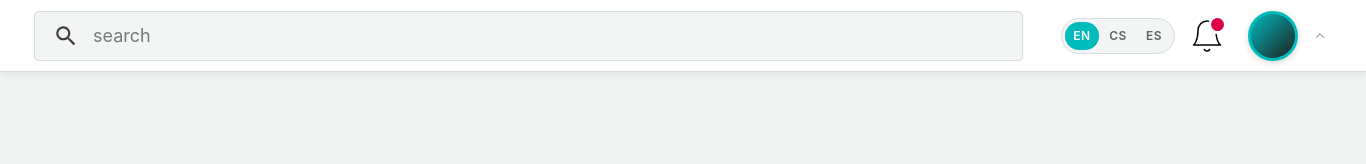
it: TopBar notification center › closes on Escape and puts the focus back on the bell
Click the button named "Notifications". click: x=1207, y=36
box: [1189,18,1225,54]
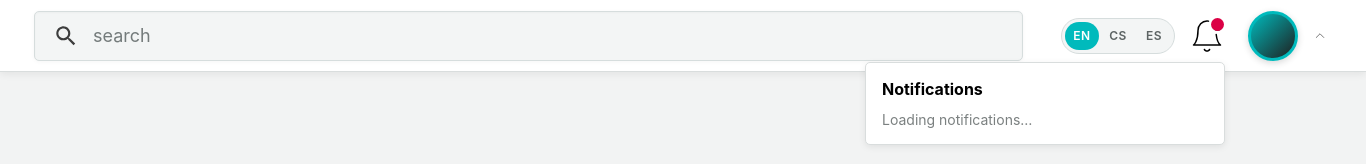
Press Escape
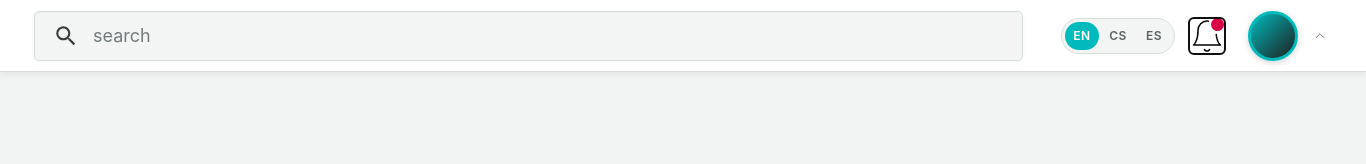
Check: the heading "Notifications" is gone
